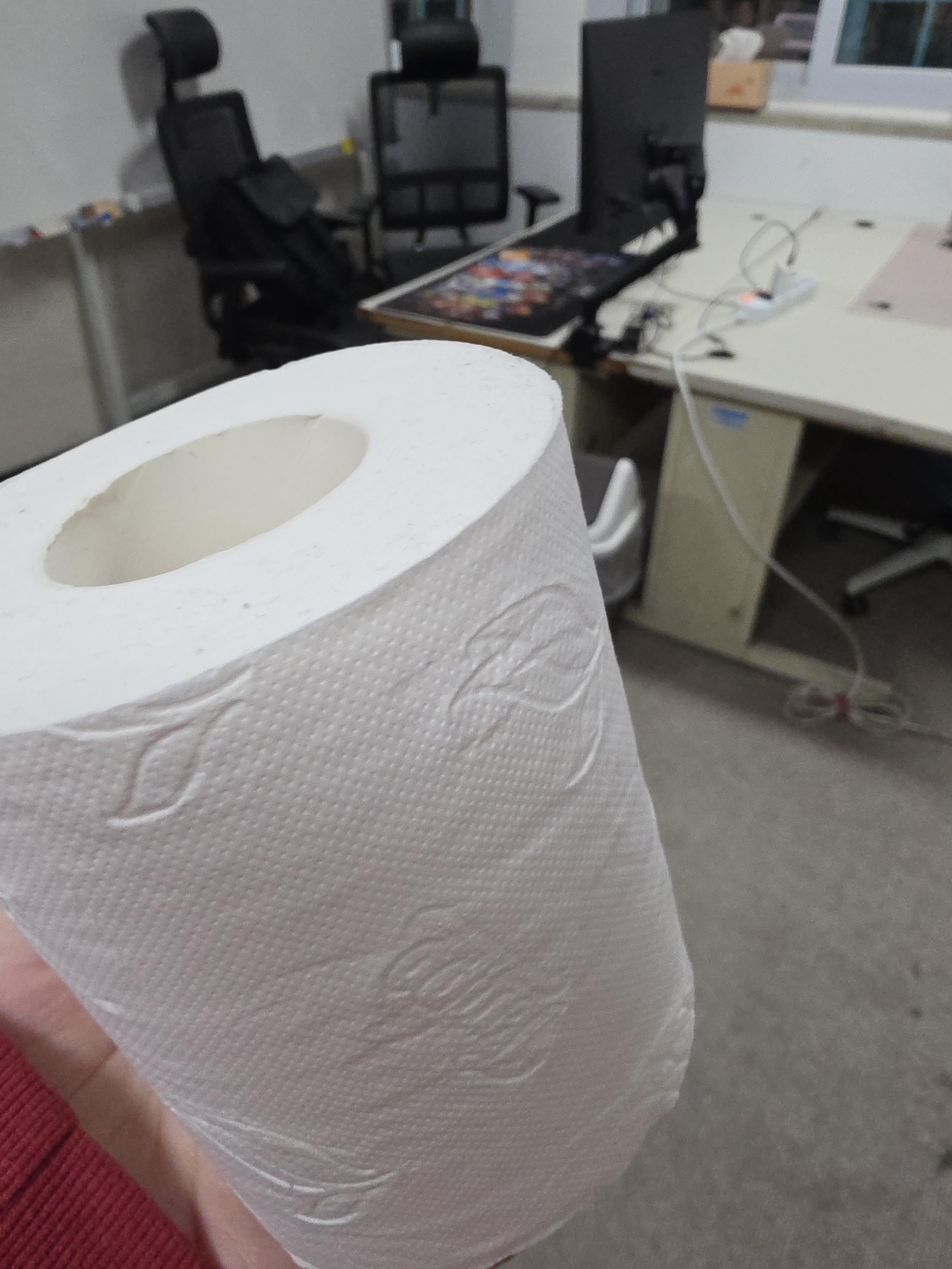tissue: (0, 339, 696, 1268), (707, 27, 772, 112)
